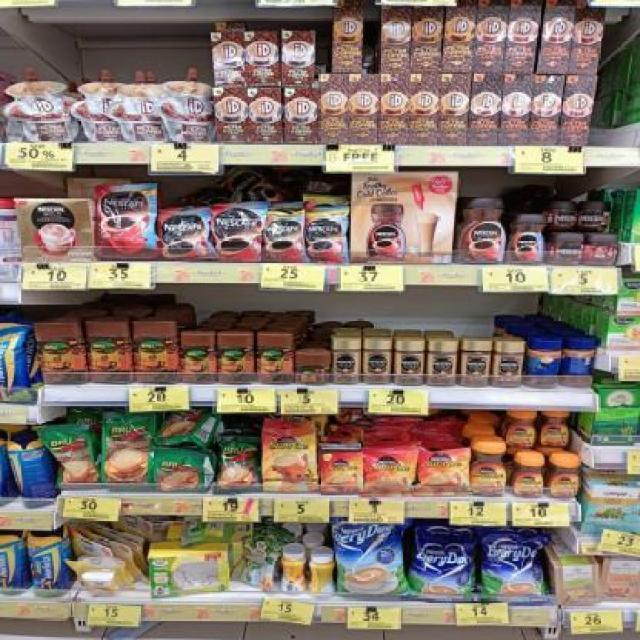Coffee: (95, 186, 156, 260), (263, 435, 317, 492), (459, 200, 506, 262), (157, 209, 214, 260), (211, 207, 262, 258), (305, 213, 346, 262), (420, 452, 467, 494), (366, 454, 413, 496), (507, 214, 546, 264), (471, 446, 508, 496), (266, 215, 305, 262), (395, 339, 424, 386), (461, 339, 490, 386), (512, 458, 544, 499), (494, 342, 522, 388), (429, 340, 456, 386), (550, 459, 581, 499), (363, 339, 389, 385), (333, 338, 358, 384), (543, 411, 572, 446), (508, 412, 536, 448), (551, 234, 584, 263), (587, 234, 618, 262), (584, 203, 614, 229), (550, 203, 579, 228)
